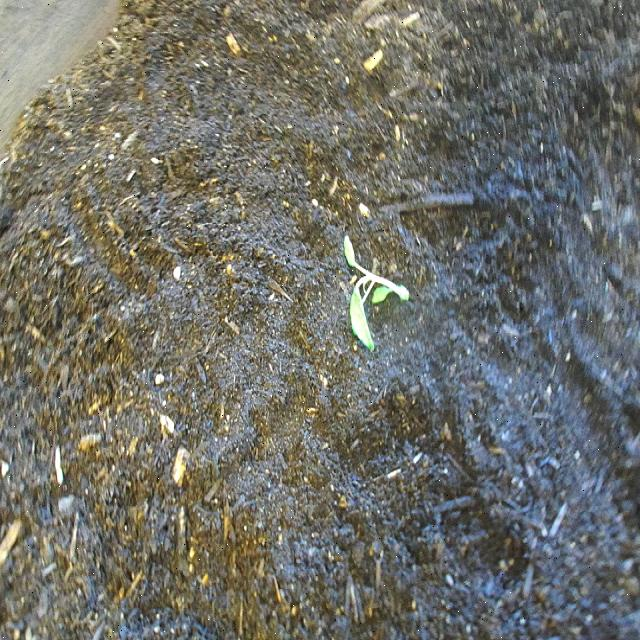Unhealthy: (336, 221, 415, 359)
